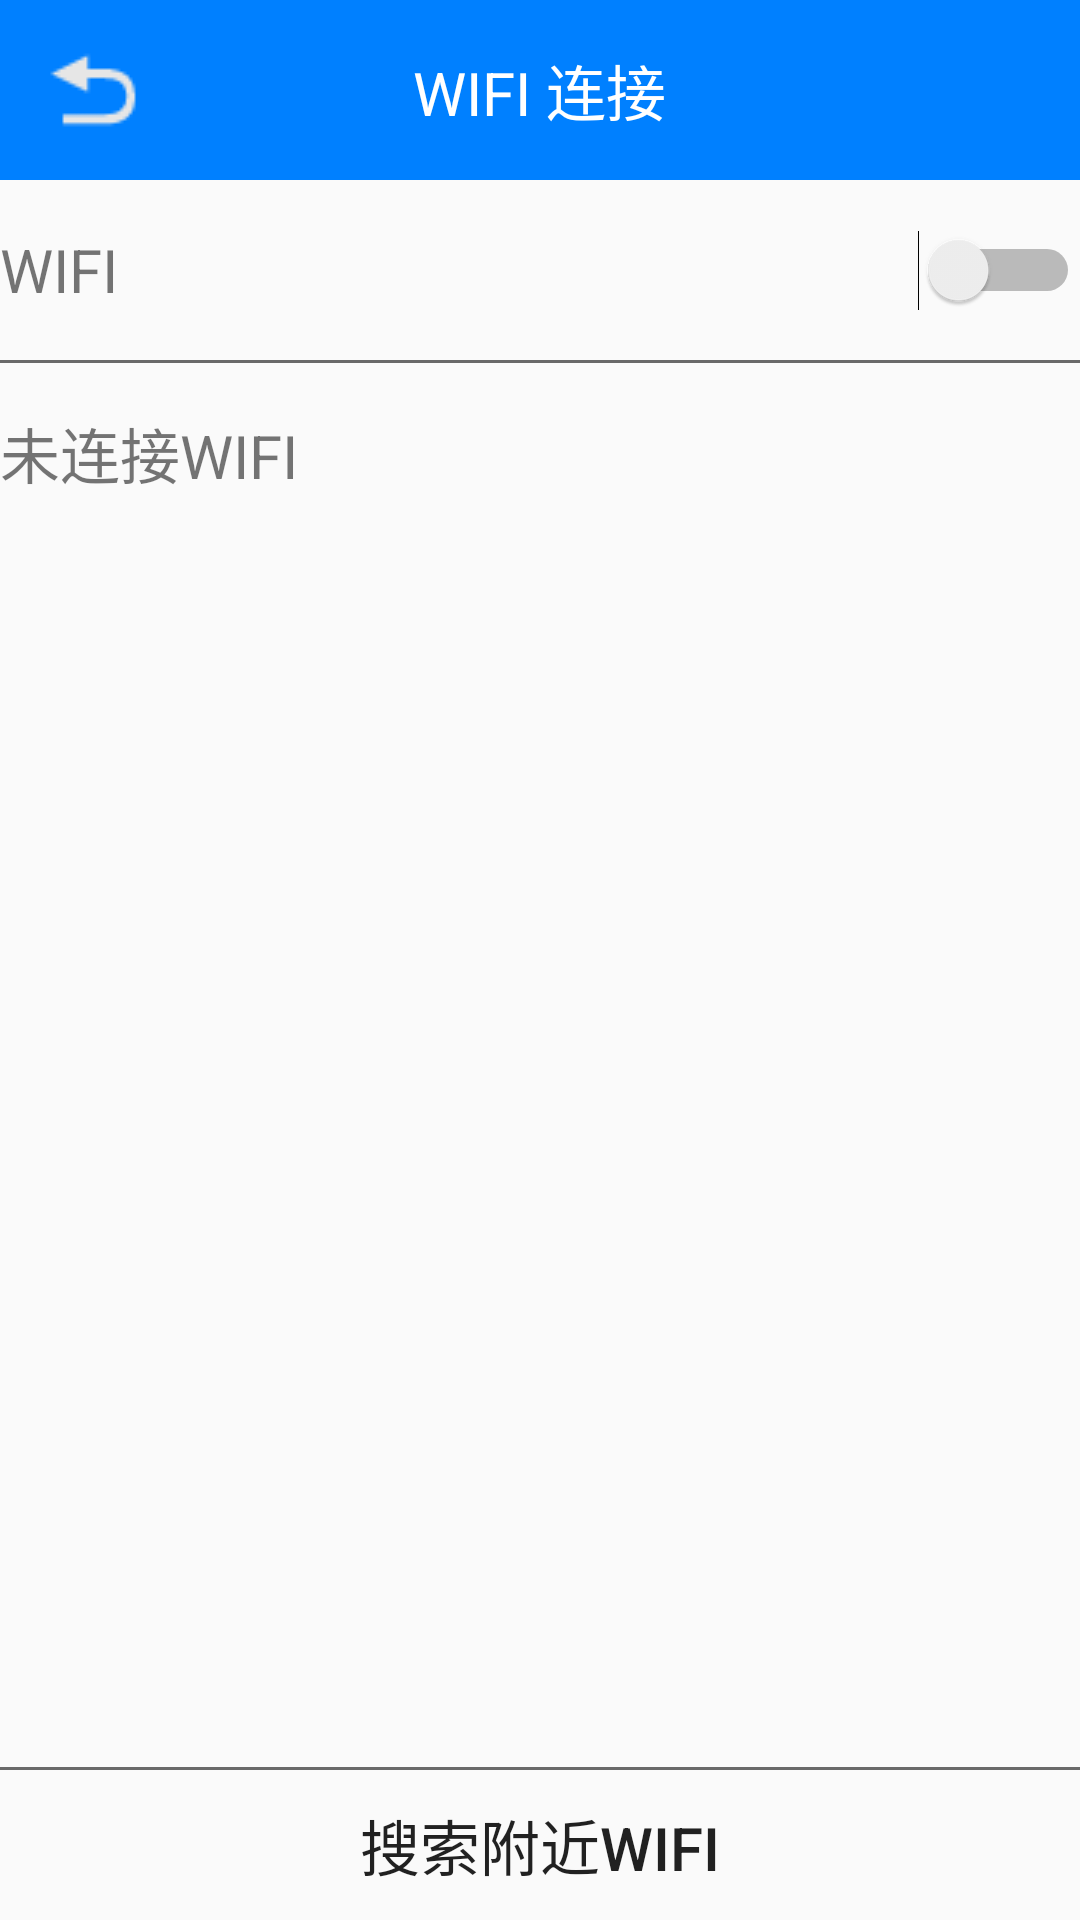

Screen size 1080px x 1920px. Icon name, then its box in pixels as box(x1, y1, x2, y2):
return: box(50, 55, 136, 126)
